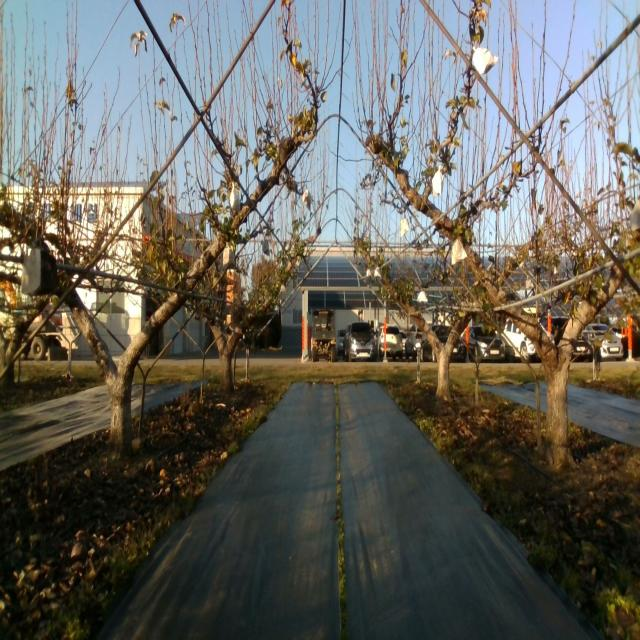pearbags: (472, 44, 499, 74), (451, 238, 468, 266), (432, 165, 443, 197), (230, 183, 241, 212), (222, 243, 235, 266)
